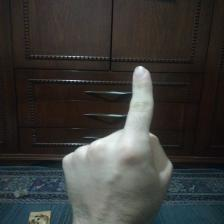one: (53, 60, 181, 221)
